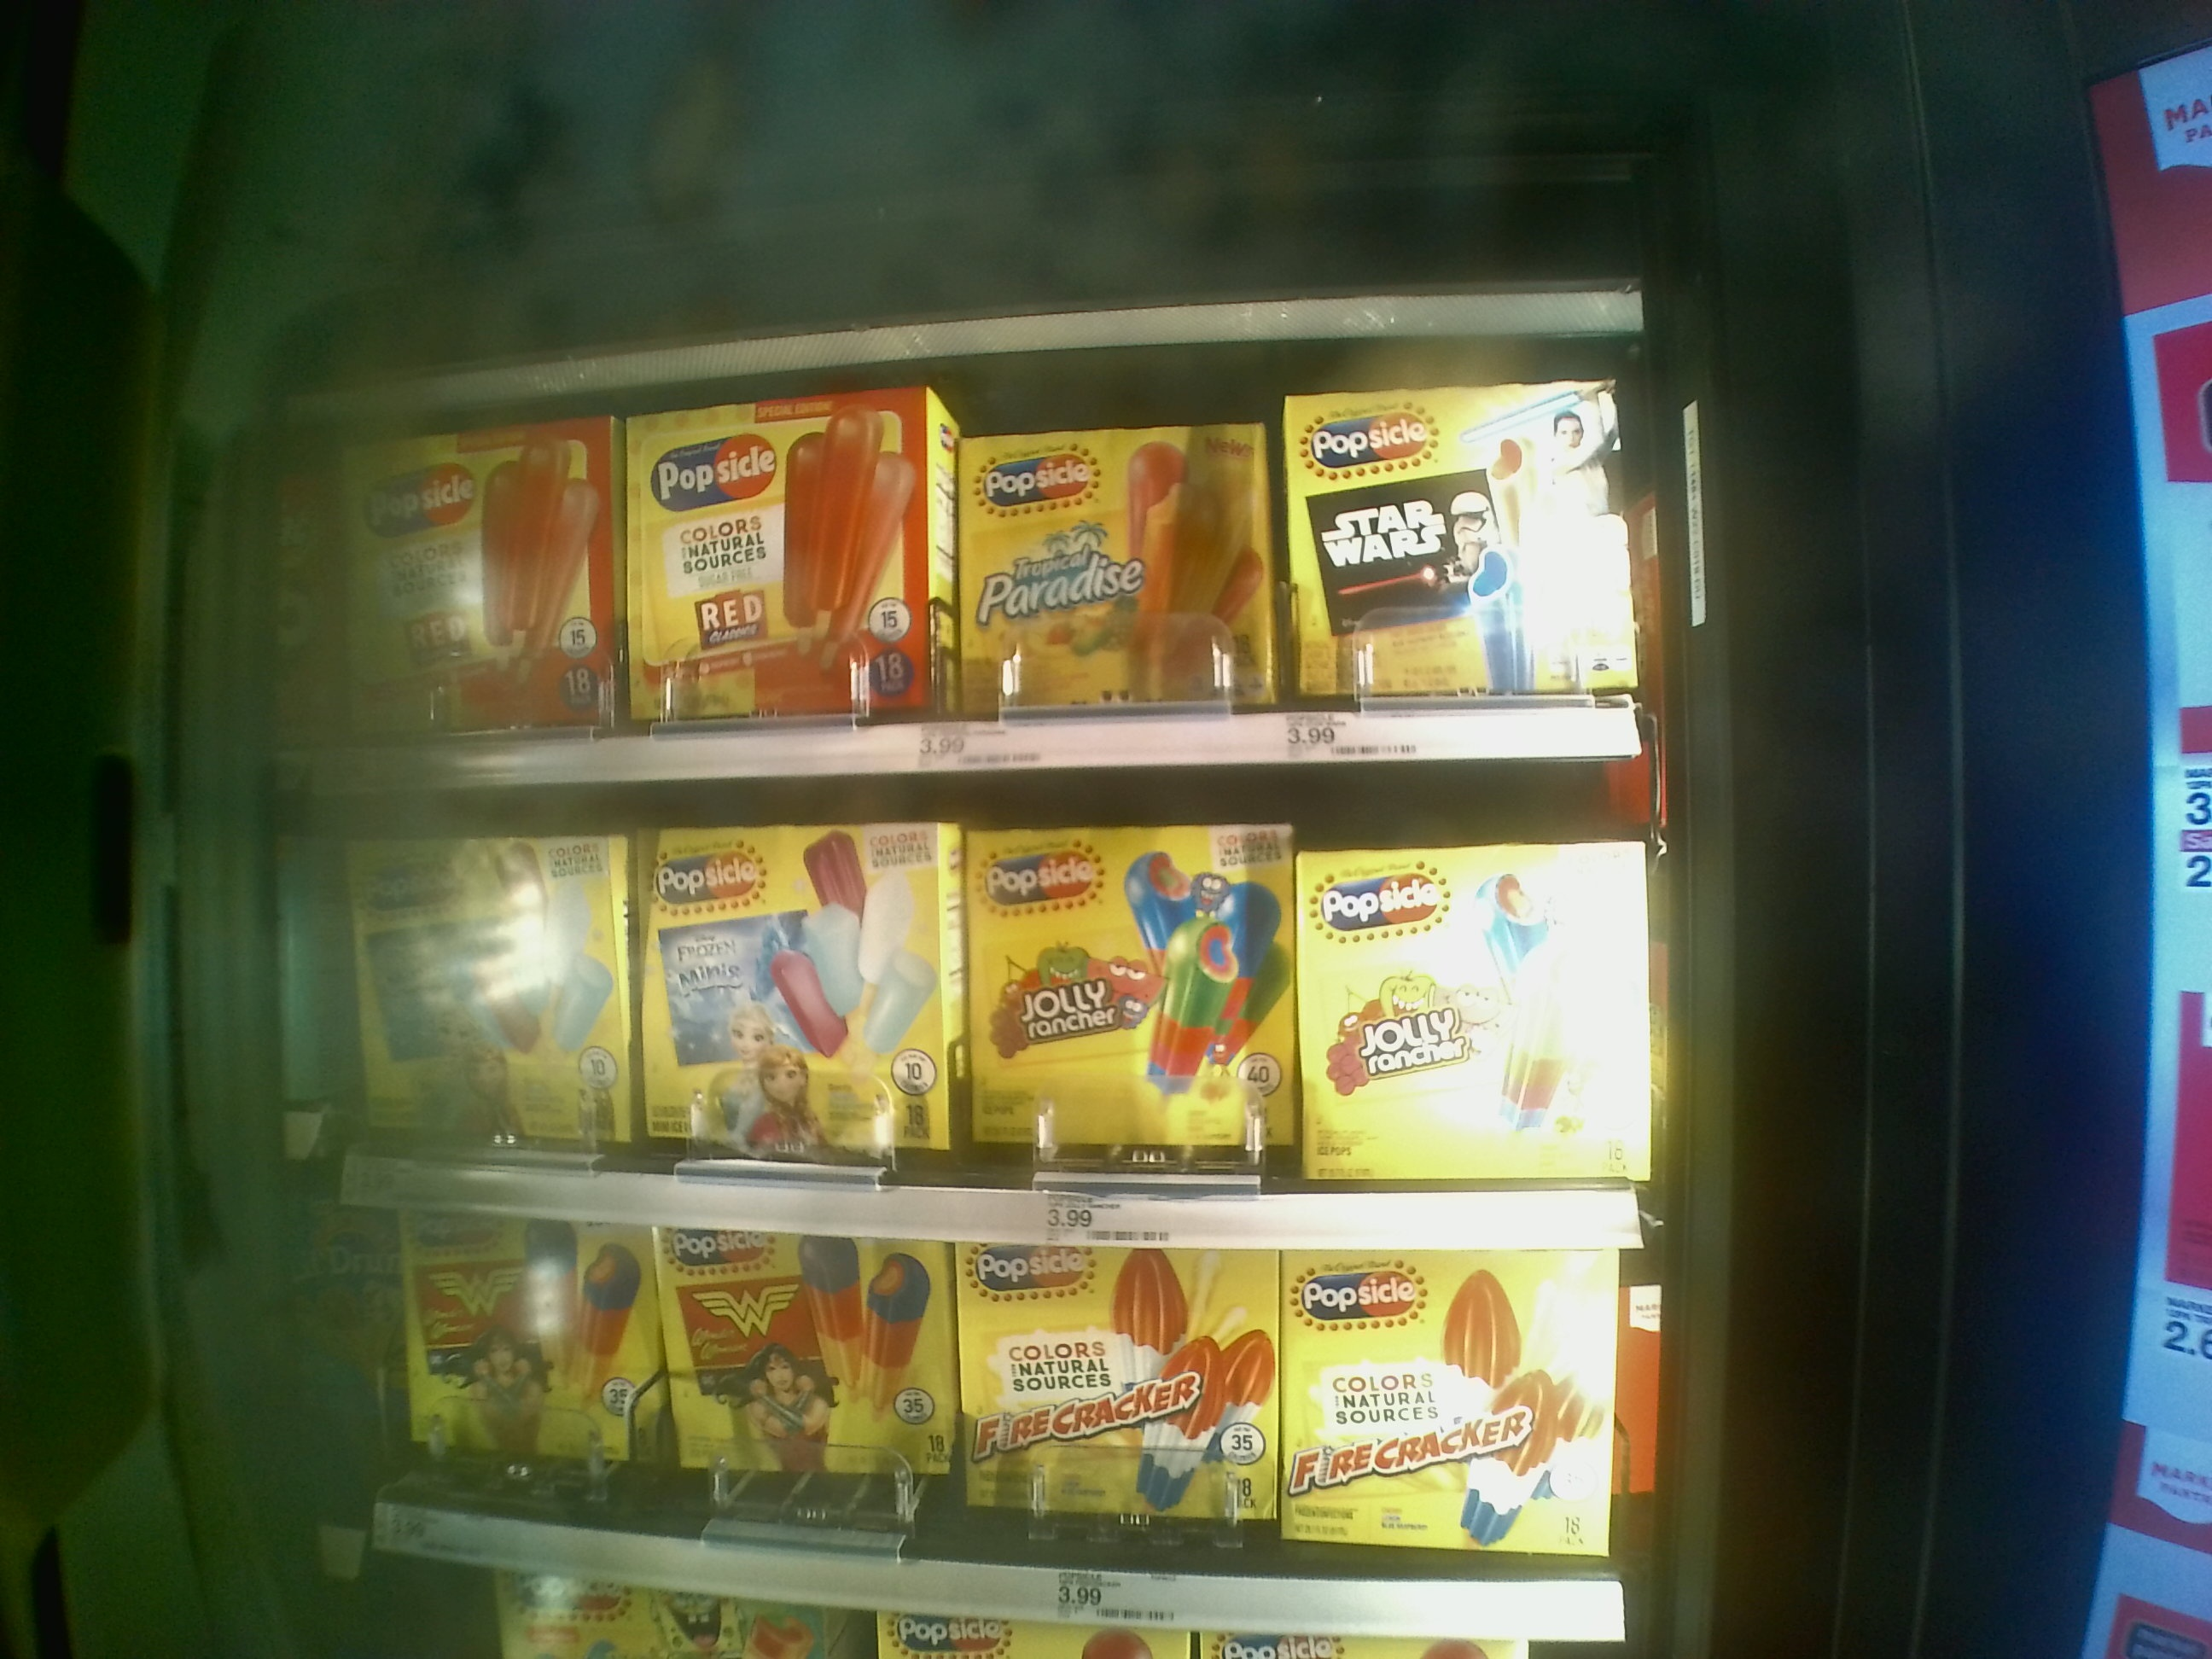frozen-food-shelf: (273, 807, 1674, 1253), (270, 1253, 1691, 1647)
